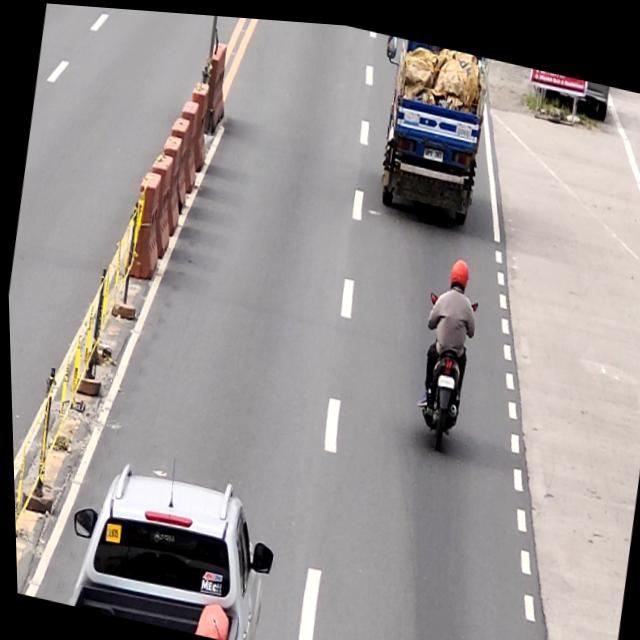Car: (56, 452, 282, 640)
License-Plate: (422, 139, 445, 157), (434, 366, 455, 384)
Motorcycle: (405, 282, 482, 453)
Truck: (361, 28, 497, 227)
